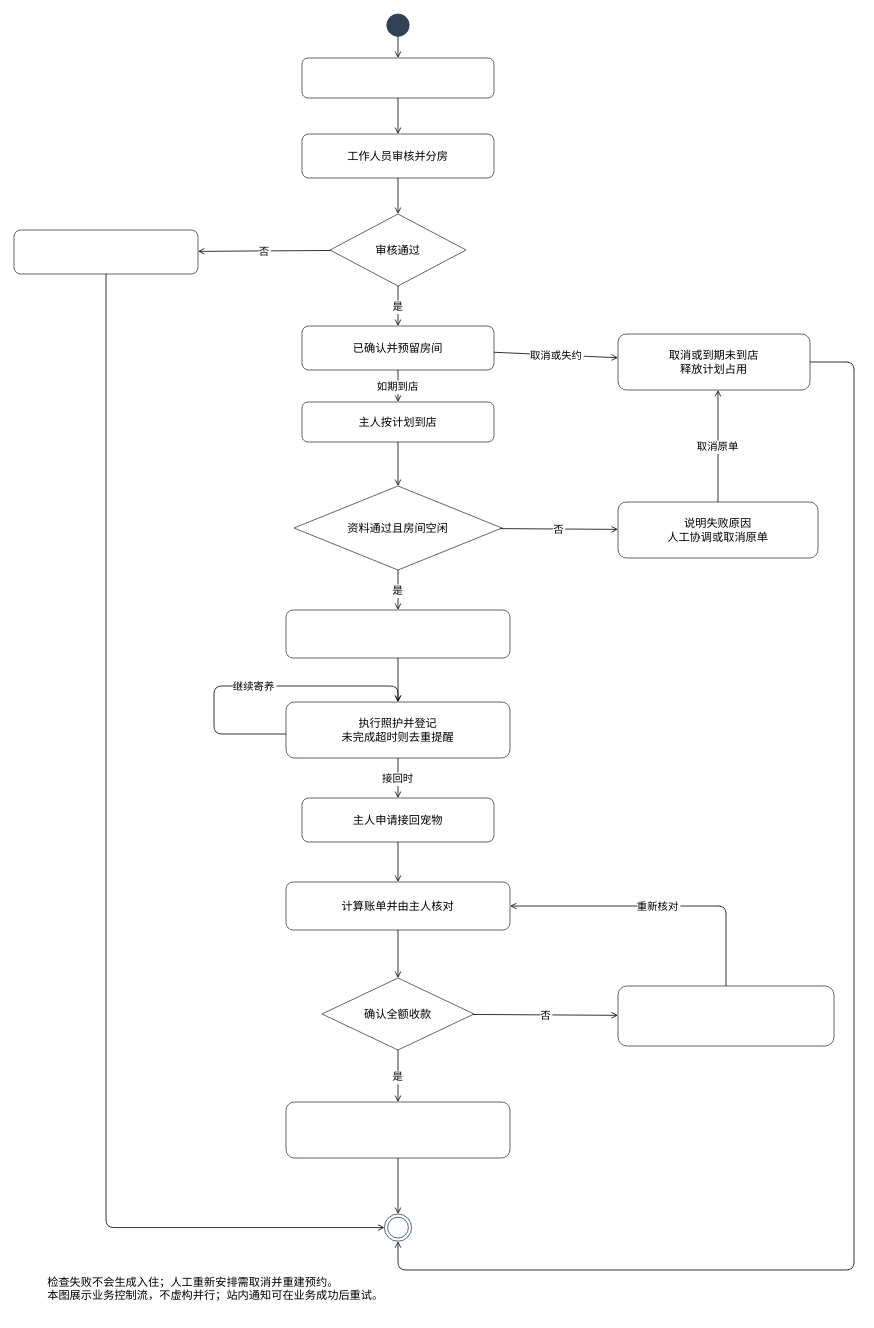
This 874x1328 diagram has some shape labels left out. The centre of each missing label's shape, as x and y in pixels:
主人提交预约: point 397,77
办理入住并制定照护计划: point 397,633
原子登记收款并结单 释放实际占用: point 397,1129
处理账单异议或等待收款 保持在住与房间实际占用: point 725,1015
驳回并通知主人: point 105,251
